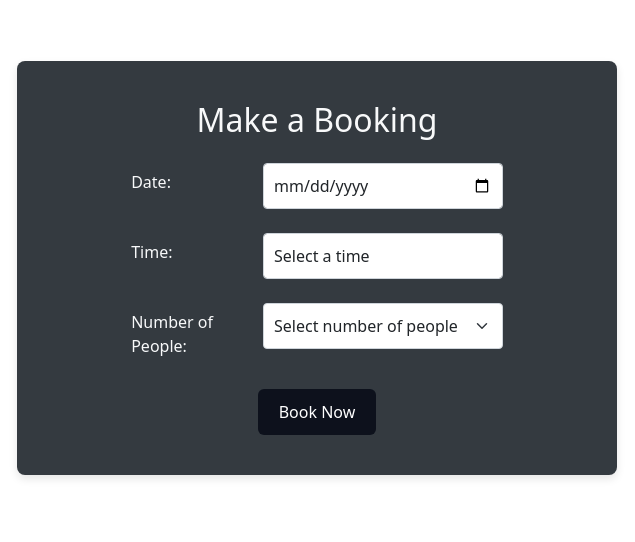
Test case: BookingForm Component › renders BookingForm correctly and handles booking creation
This screenshot has width=635, height=542.
Type "2024-07-15" into the date field labelled "Date:" at (383, 186), box x1=263 y1=163 x2=503 y2=209
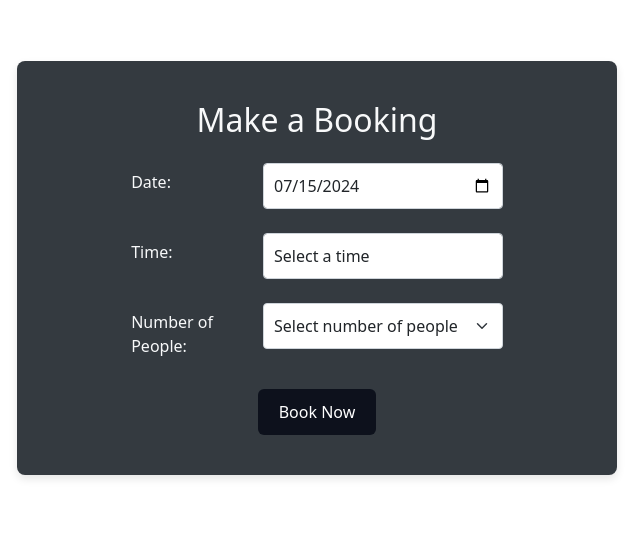
Select "14:00" in the dropdown labelled "Time:" at (383, 256), box x1=263 y1=233 x2=503 y2=279
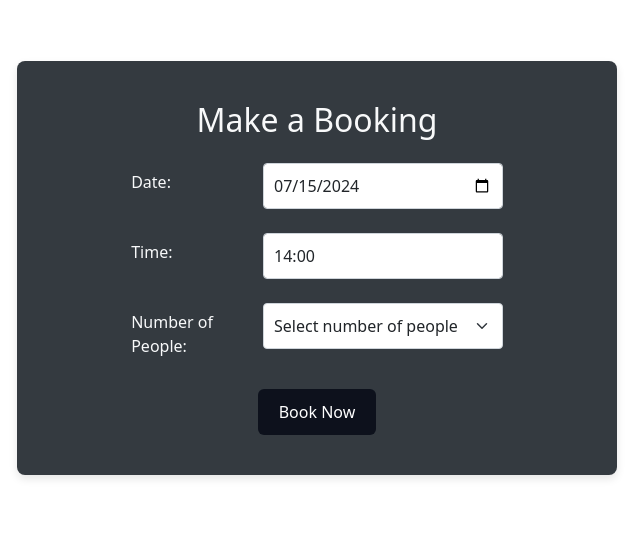
Select "2" in the dropdown labelled "Number of People:" at (383, 326), box x1=263 y1=303 x2=503 y2=349
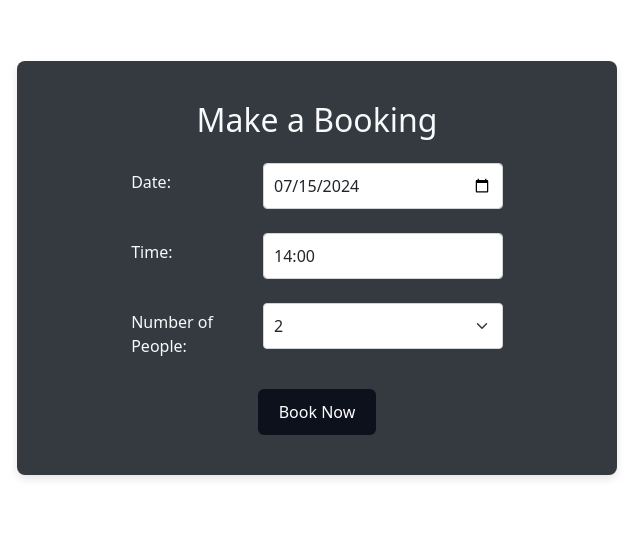
Submit the form from the button "Book Now", box x1=258 y1=389 x2=376 y2=435
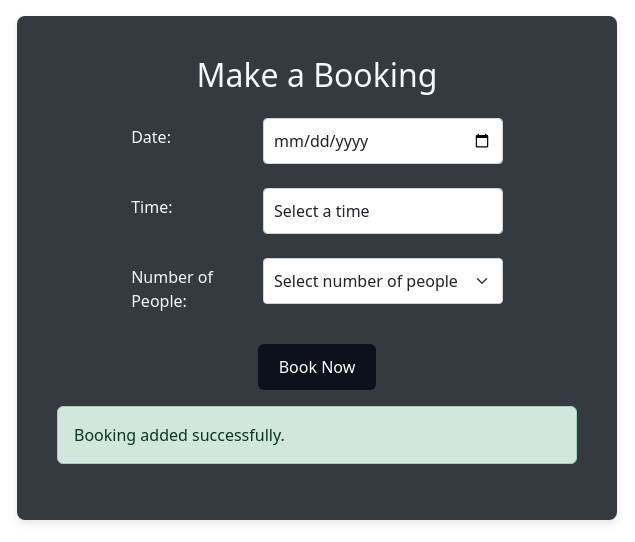
Now the text "Booking added successfully." is shown, box x1=57 y1=406 x2=577 y2=464
